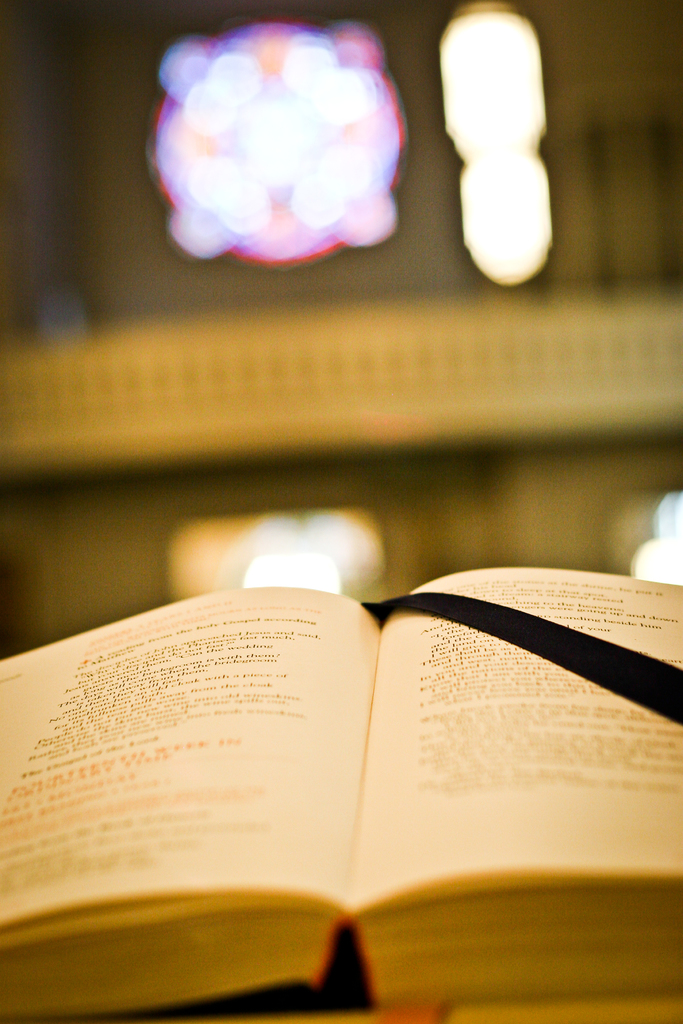Book: (26, 488, 664, 1016)
